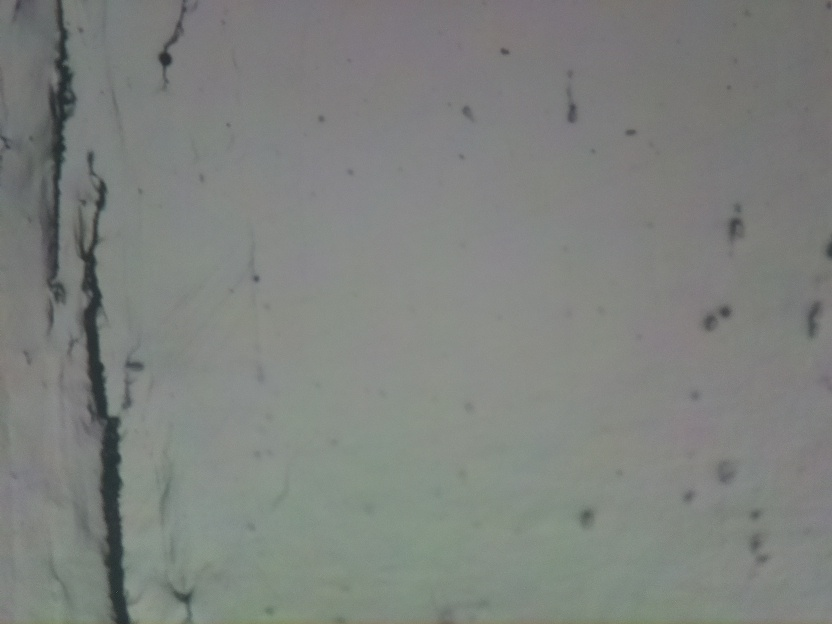crack: (80, 159, 137, 624), (44, 0, 72, 296), (154, 0, 197, 83)
